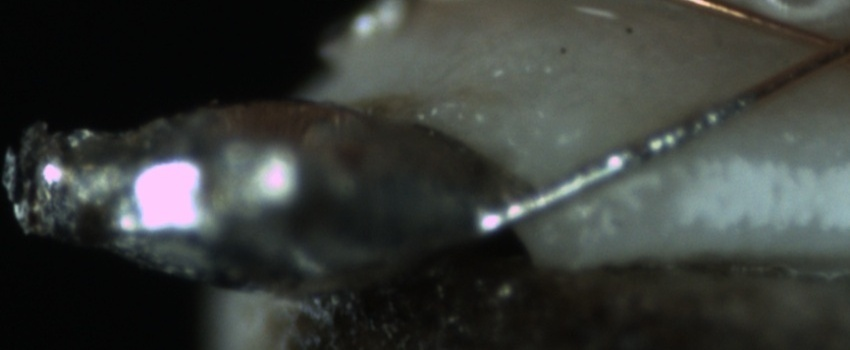CL: (792, 16, 850, 74)
TS: (484, 95, 754, 236)
TTCW: (473, 69, 800, 231)
